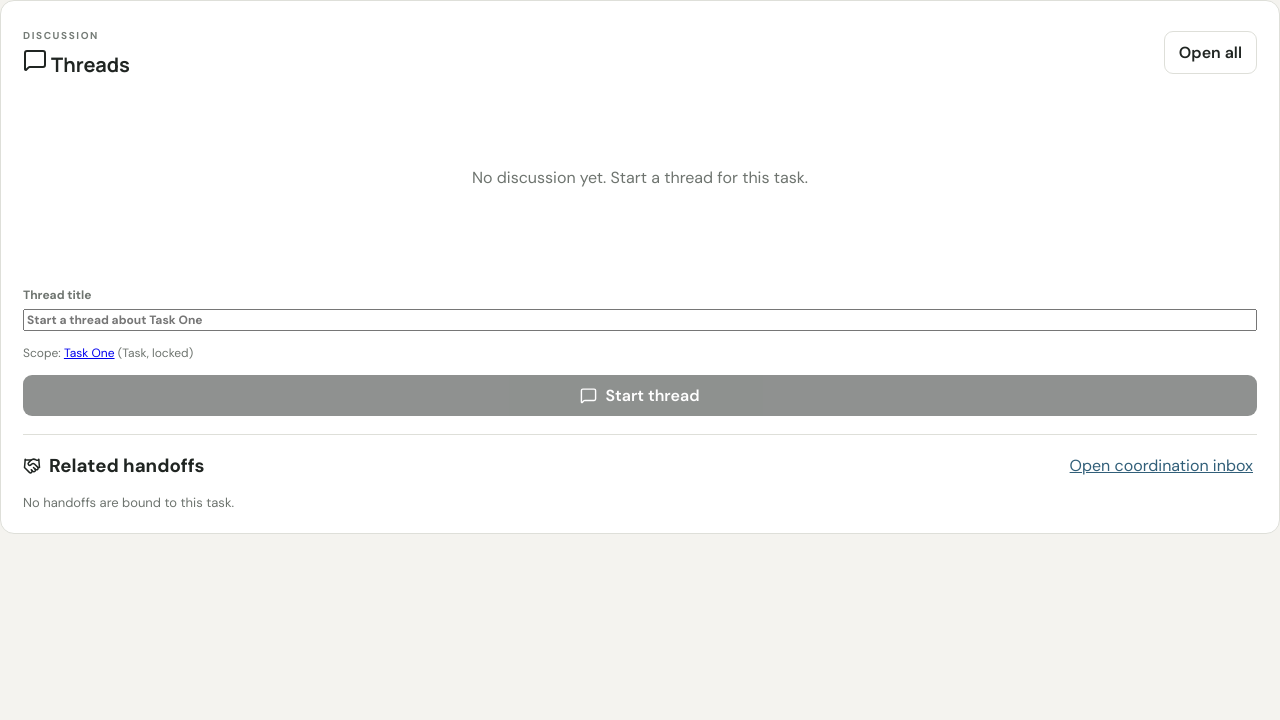
Test: DiscussionPanel › starts an empty discussion with a locked workspace scope
Expected: the text "No discussion yet. Start a thread for this task." is shown, 472,167 -> 808,188
Expected: the element showing "Scope: Task One (Task, locked)" is shown, 23,345 -> 193,361
Type " New thread " into the field labelled "Thread title" at point(640, 320), box 23,309 -> 1257,331
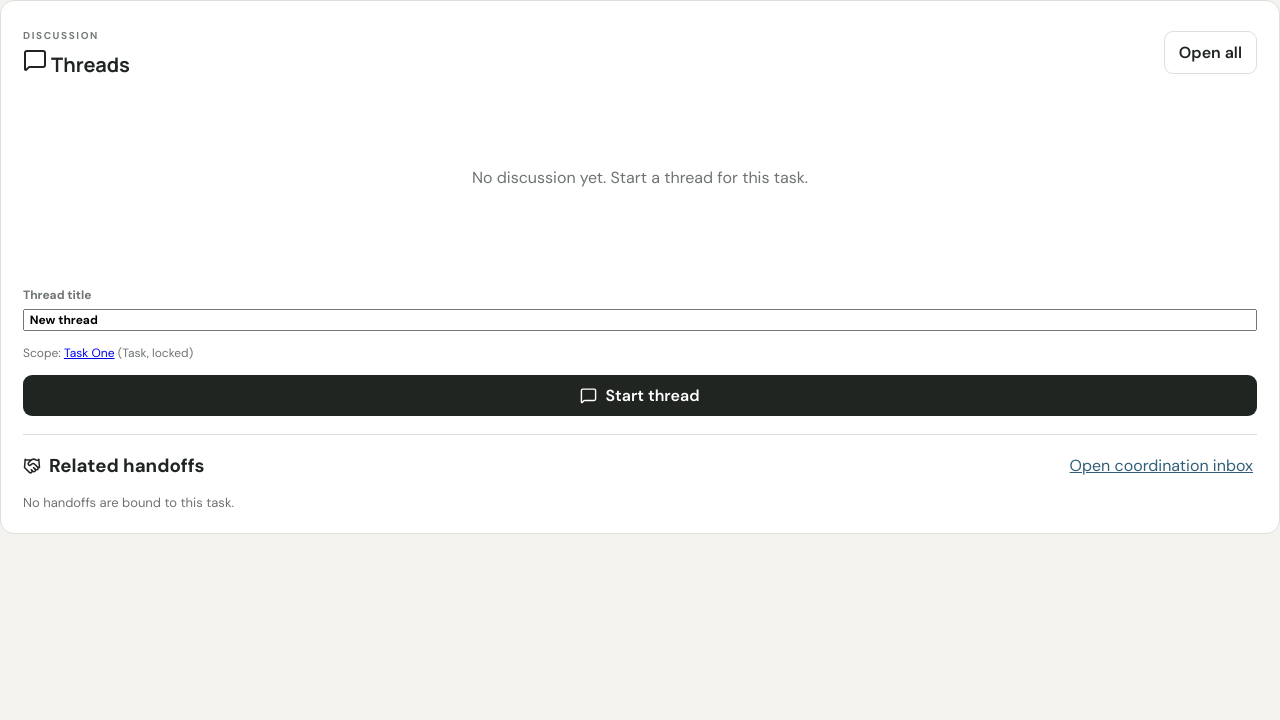
Click the button "Start thread" at point(640, 396), box 23,375 -> 1257,416
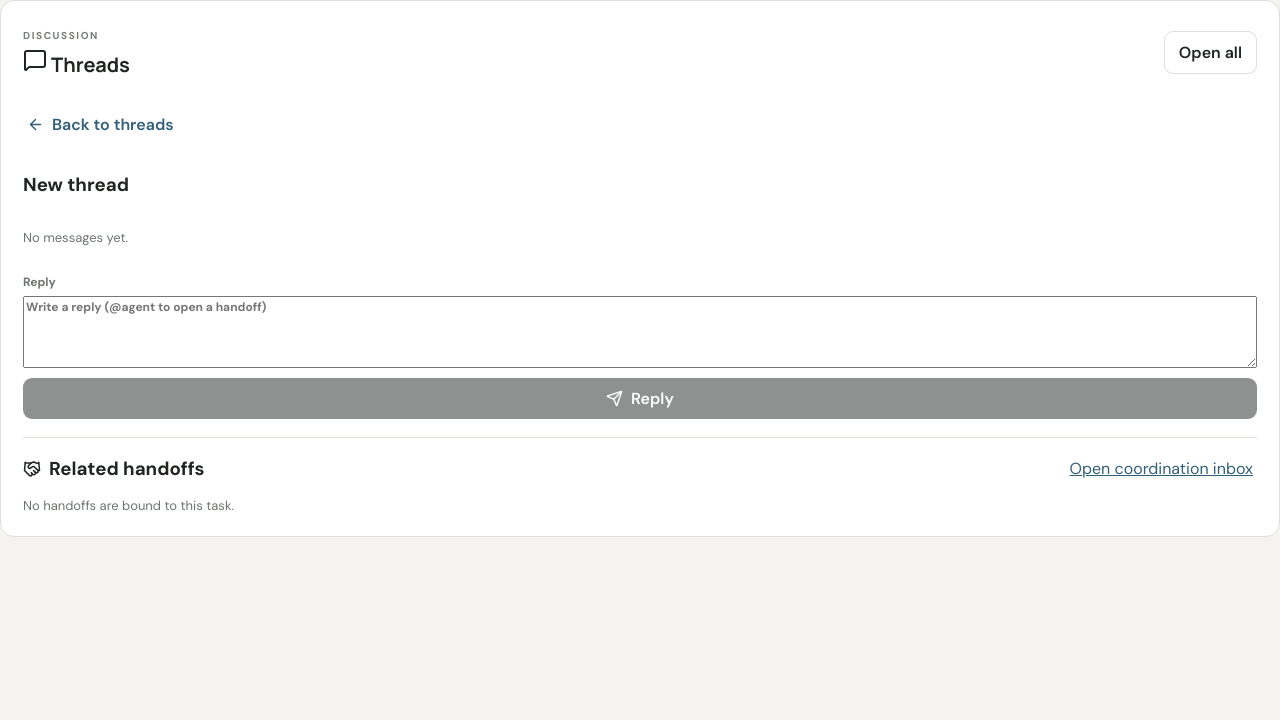
Expected: the heading "New thread" is shown, 23,172 -> 129,197
